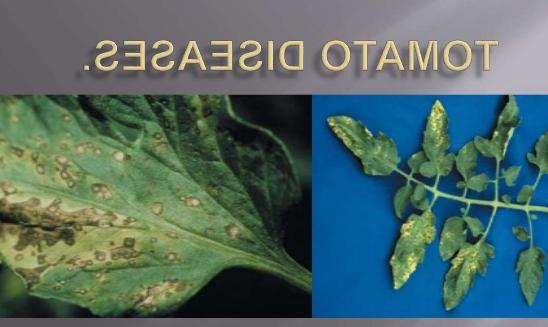Tomato Septoria leaf spot: (0, 101, 298, 314), (325, 107, 403, 188), (421, 238, 497, 312), (386, 206, 444, 289), (415, 98, 459, 187)
